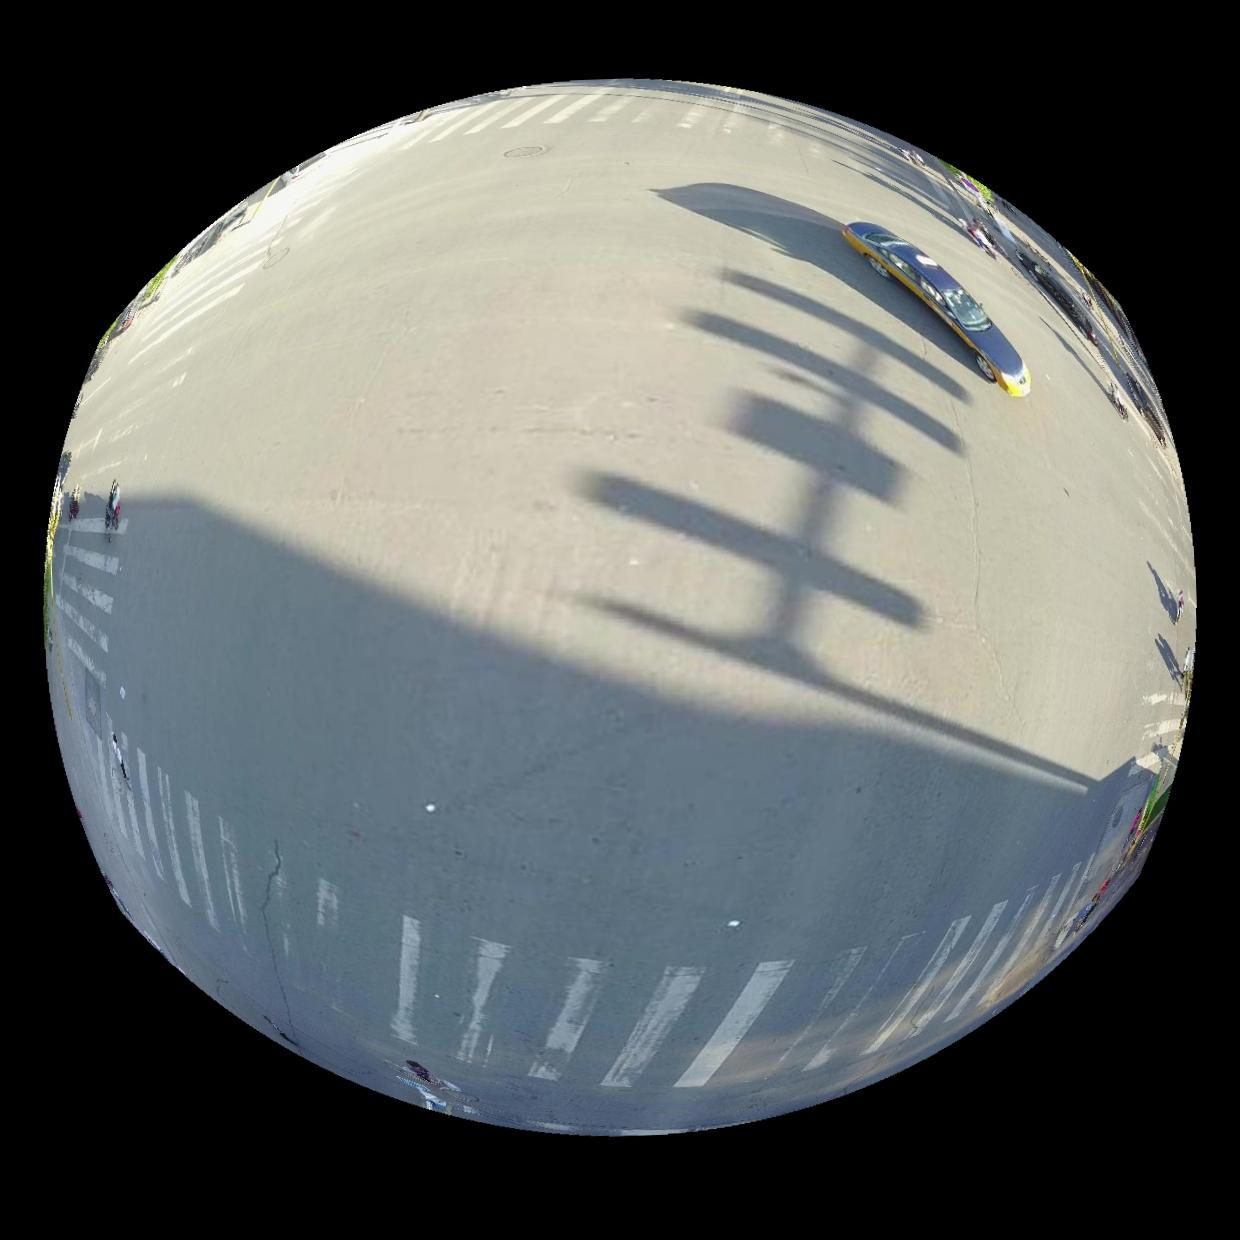cars: (843, 220, 1034, 396)
